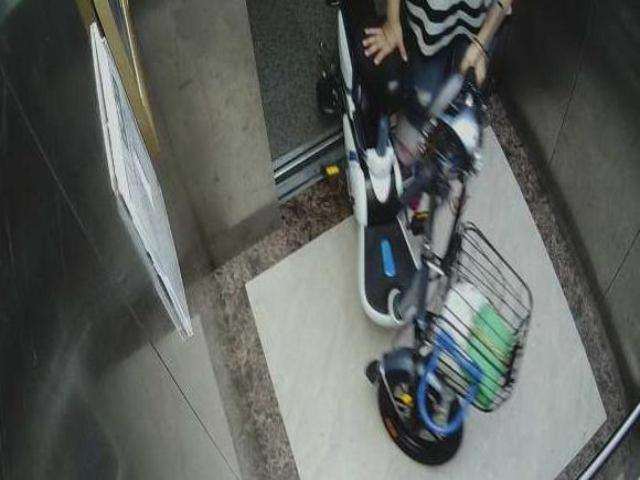emotor: (315, 22, 511, 454)
